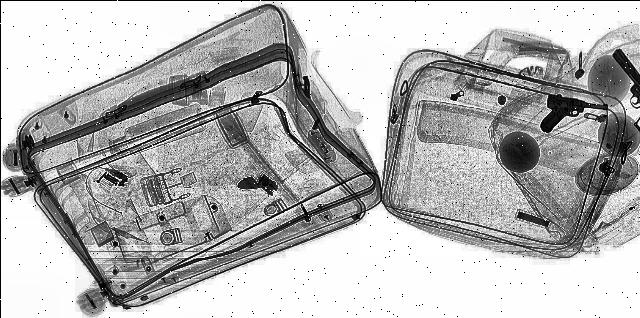Gun: (530, 92, 612, 136)
